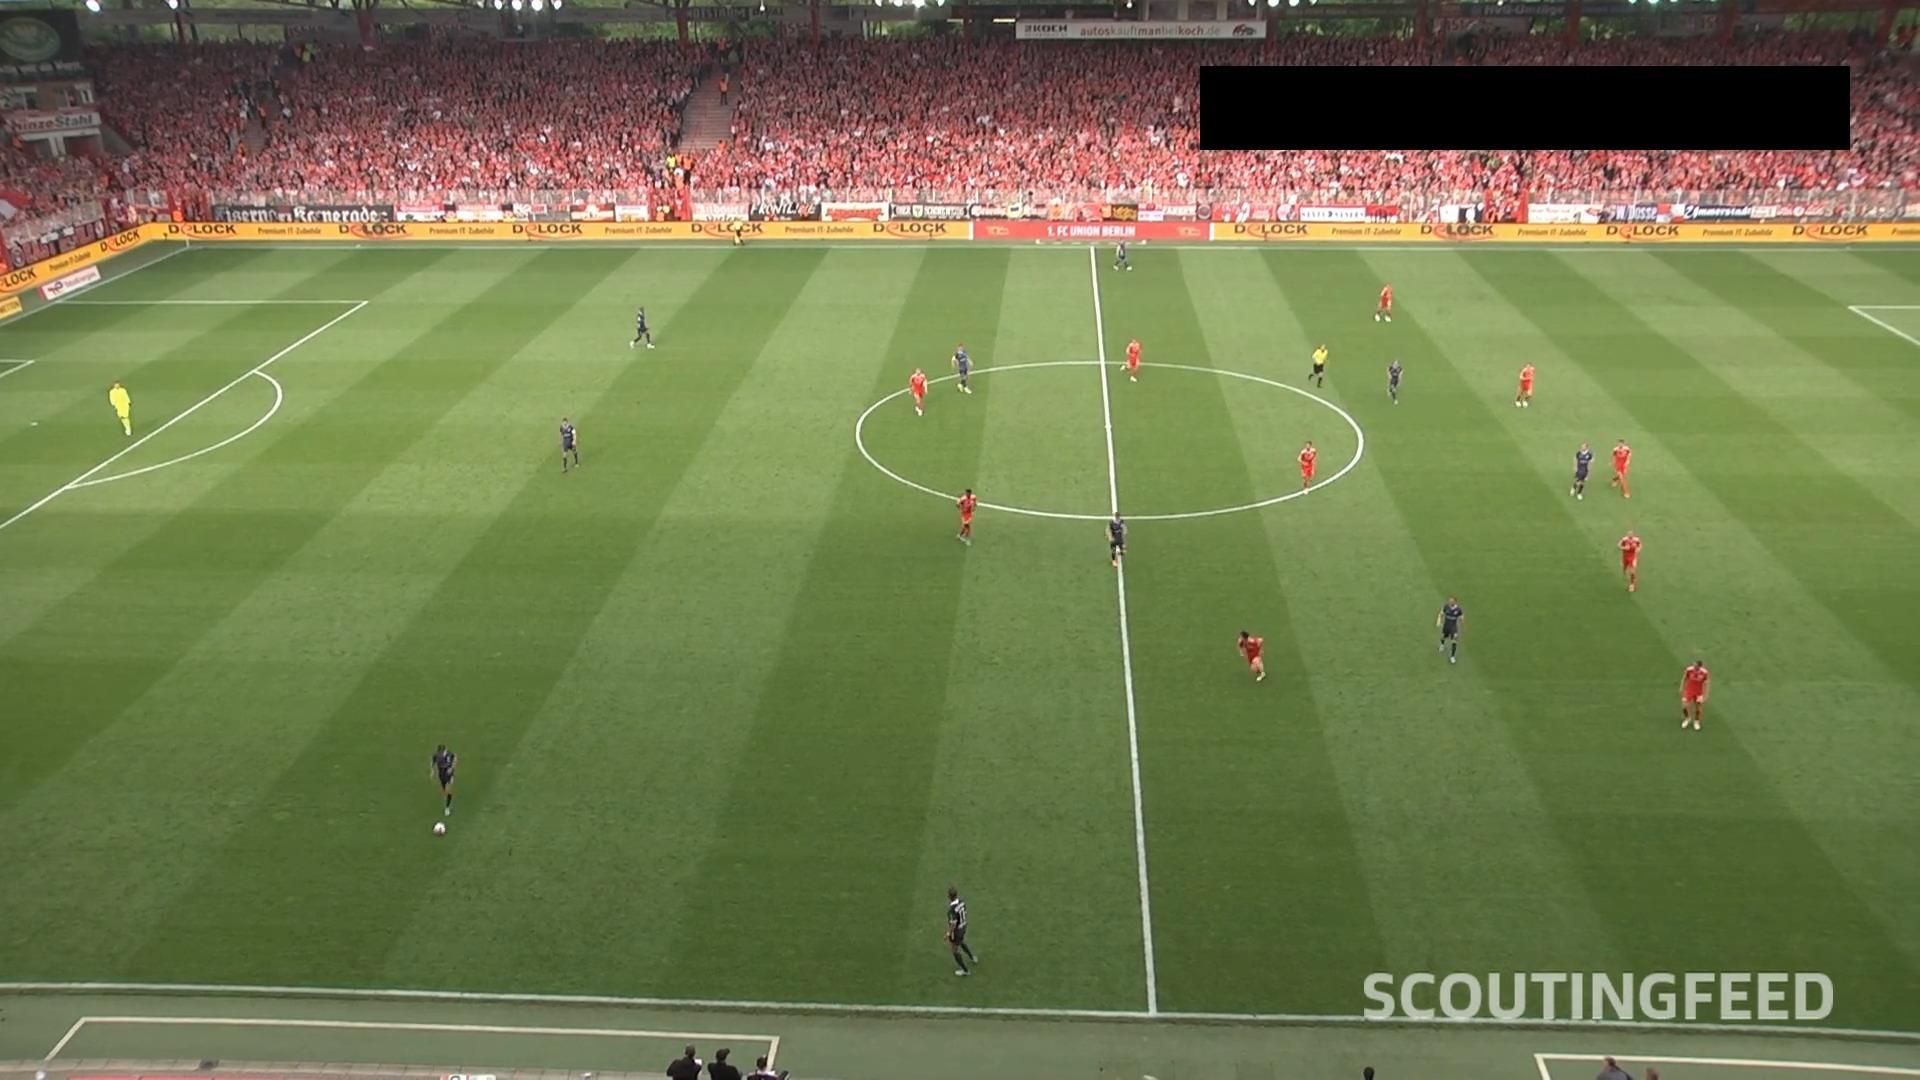ball: (430, 822, 447, 839)
